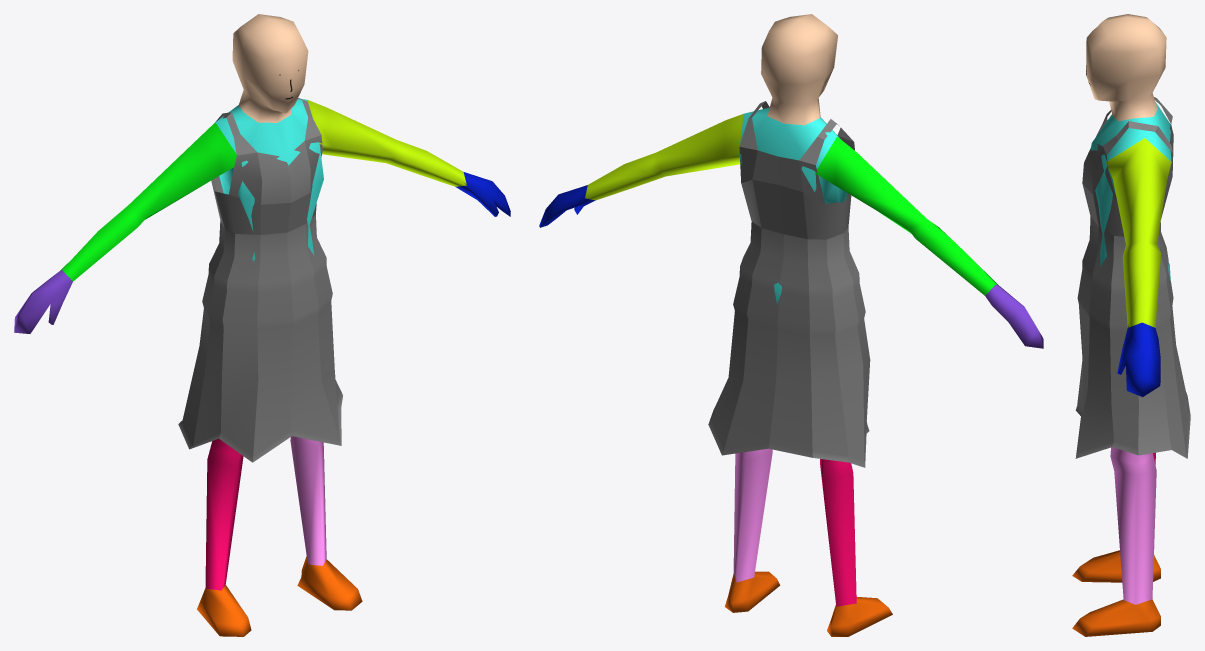
File: Tessa.obj
The picture shows the model from 3 angles, left to right: view 1: azimuth 30°, elevation 25°; view 2: azimuth 150°, elevation 25°; view 3: azimuth 270°, elevation 25°; orthographic projection.
Parts seen in each view (by area): view 1: pasted__pCylinder1 group1, HumanoidBase_NotOverlapping; view 2: pasted__pCylinder1 group1, HumanoidBase_NotOverlapping; view 3: HumanoidBase_NotOverlapping, pasted__pCylinder1 group1.
Part boxes in pixels (bbox=[...]): pasted__pCylinder1 group1: bbox=[178, 98, 342, 462]; HumanoidBase_NotOverlapping: bbox=[14, 14, 510, 636]; pasted__pCylinder1 group1: bbox=[708, 101, 870, 467]; HumanoidBase_NotOverlapping: bbox=[539, 14, 1043, 636]; HumanoidBase_NotOverlapping: bbox=[1072, 14, 1171, 636]; pasted__pCylinder1 group1: bbox=[1075, 97, 1190, 458].
Bounding box in the file's own units: 103 × 116 × 21.34.
Materials: 2 (1 with a texture image).
